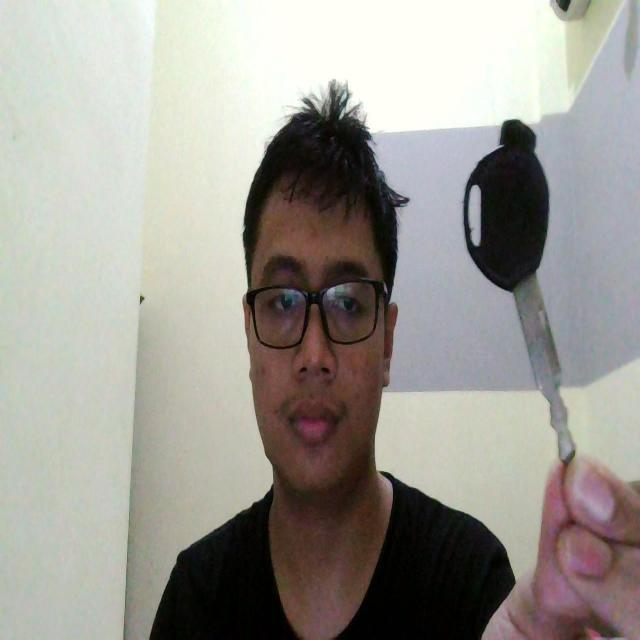kunci_motor: (459, 107, 578, 474)
